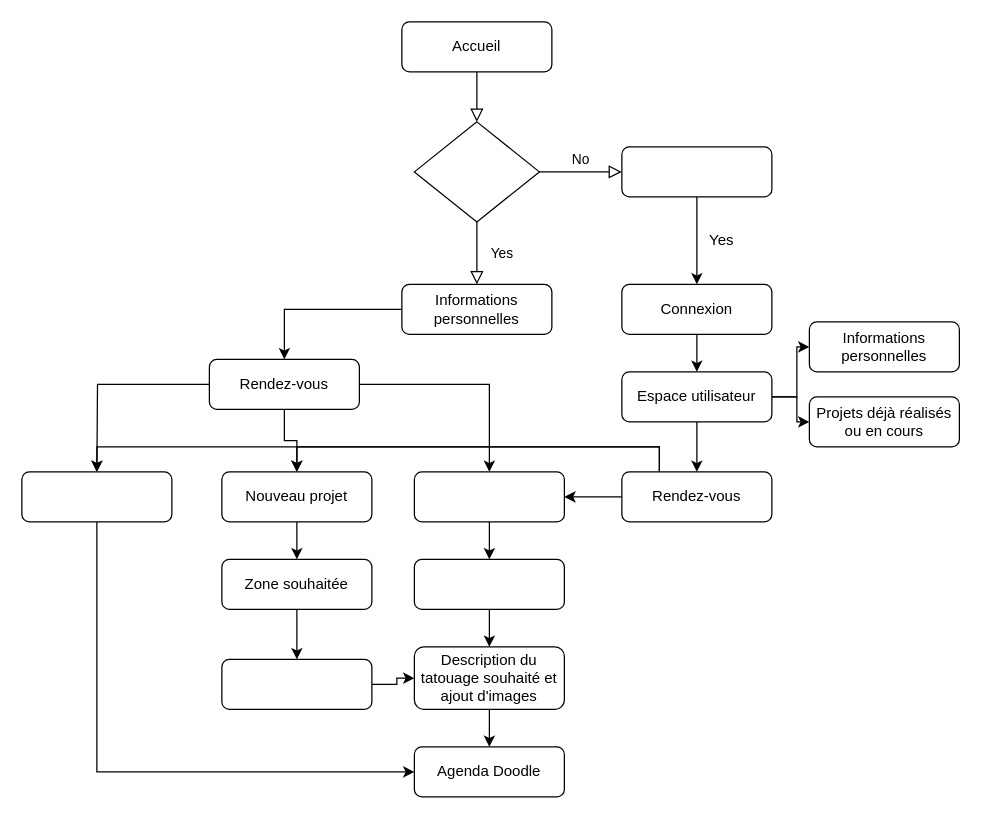
Image size: 981x819. Some labels were removed from this diagram. The shapes that lost their labels are listed below. From the top down, each one's box as (x1, y1, x2, y2) in pixels, then its label:
(413, 121, 539, 222): Nouveau client
(621, 146, 772, 197): Ancient client
(21, 471, 172, 522): Retouches
(413, 471, 564, 522): Cover
(413, 558, 564, 609): Ajout d'images du tatouage actuel
(221, 658, 372, 709): Style souhaité
